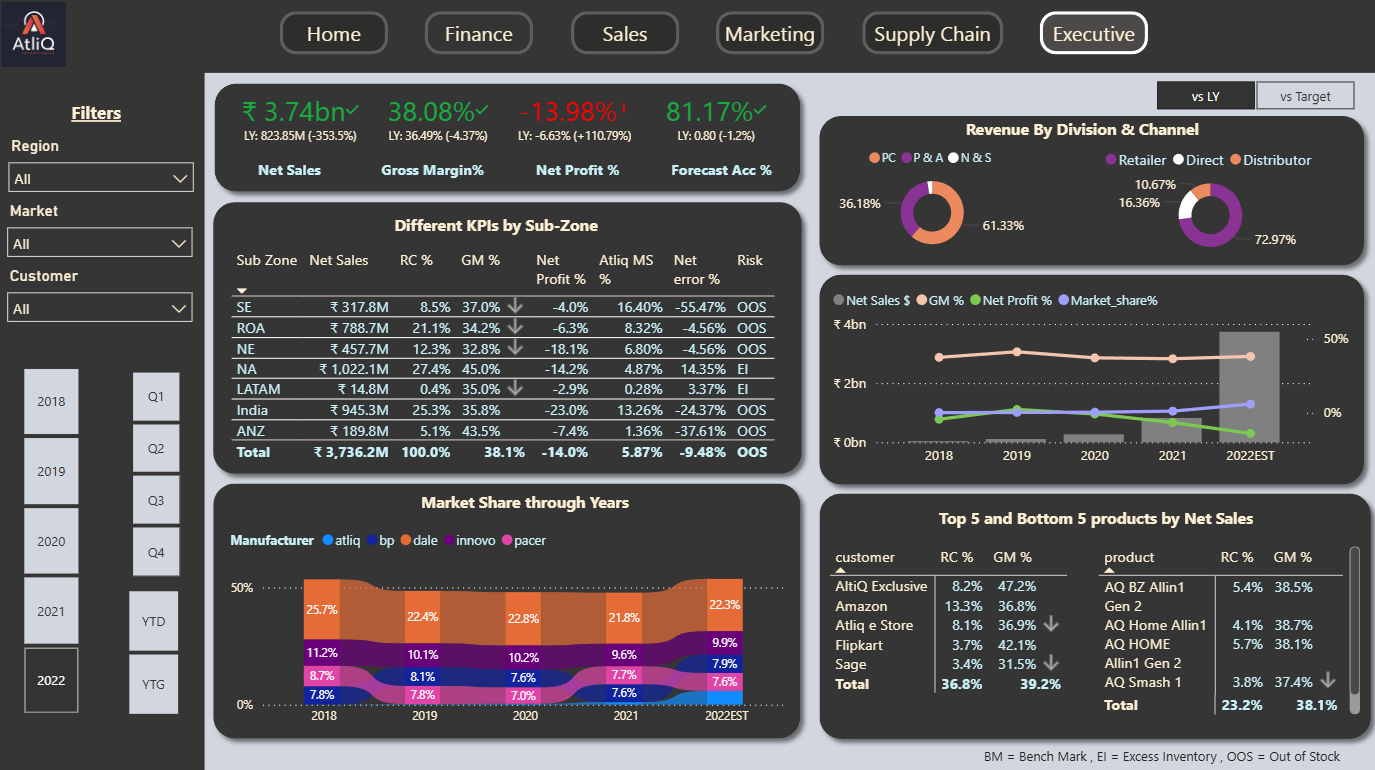

The dashboard page shown, as its layout file describes it:
{"tool":"powerbi","page":{"name":"Executive View","canvas":[1280,720],"ordinal":5},"visuals":[{"type":"shape","box":[0,0,1280,72.4],"z":0},{"type":"shape","box":[0,0,193,720.2],"z":1000},{"type":"textbox","box":[908.6,688.9,371.1,31],"z":2000},{"type":"slicer","fields":{"Values":["gdb041 dim_market.market"]},"box":[0,185.8,191.8,60.3],"z":3000},{"type":"slicer","fields":{"Values":["gdb041 dim_customer.customer"]},"box":[0,246.1,191.8,59.1],"z":4000},{"type":"slicer","fields":{"Values":["gdb041 dim_market.region"]},"box":[1.2,125.5,191.8,60.3],"z":5000},{"type":"image","box":[0,0,70,72.4],"z":6000},{"type":"slicer","fields":{"Values":["fiscal_year.Fiscal Year"]},"box":[0,339,100.1,331.8],"z":7000},{"type":"slicer","fields":{"Values":["dim_date.Quaters"]},"box":[100.1,341.4,92.9,201.5],"z":8000},{"type":"slicer","fields":{"Values":["dim_date.ytd_ytg"]},"box":[96.5,544.1,95.3,126.7],"z":9000},{"type":"textbox","box":[65.1,92.9,65.1,32.6],"z":10000},{"type":"slicer","fields":{"Values":["NS BM.Benchmark "]},"box":[1047.2,72.4,232.8,37.4],"z":11000},{"type":"shape","box":[191.5,182.6,561.9,268.9],"z":12000},{"type":"shape","box":[752.1,102.7,521.3,156],"z":13000},{"type":"shape","box":[192.8,72.3,559.3,118],"z":14000},{"type":"actionButton","box":[261.8,14.7,100.1,39.8],"z":15000},{"type":"actionButton","box":[396.4,14.7,100.1,39.8],"z":16000},{"type":"actionButton","box":[531.1,14.7,100.1,39.8],"z":17000},{"type":"actionButton","box":[665.7,14.7,100.1,39.8],"z":18000},{"type":"actionButton","box":[800.4,14.7,130.3,39.8],"z":19000},{"type":"actionButton","box":[965.2,14.7,100.1,39.8],"z":20000},{"type":"shape","box":[191.5,442.7,560.6,253.7],"z":21000},{"type":"shape","box":[752.1,250.1,521.3,211.8],"z":22000},{"type":"tableEx","fields":{"Values":["sub_zone.sub_zone","Key Measures.Net Sales $","Key Measures.RC %","Key Measures.GM %","Key Measures.Net Profit %","Key Measures.Atliq MS %","Key Measures.Net error %","Key Measures.Risk"]},"box":[211.8,229.6,525.1,211.8],"z":23000},{"type":"donutChart","fields":{"Category":["gdb041 dim_product.division"],"Y":["Key Measures.Net Sales $"]},"box":[772.4,131.9,185.2,111.6],"z":24000},{"type":"donutChart","fields":{"Category":["gdb041 dim_customer.channel"],"Y":["Key Measures.Net Sales $"]},"box":[1003.3,131.9,239.7,114.2],"z":25000},{"type":"lineStackedColumnComboChart","fields":{"Category":["fiscal_year.fy des"],"Y2":["Key Measures.GM %","Key Measures.Net Profit %","Key Measures.Market_share%"],"Y":["Key Measures.Net Sales $"]},"box":[768.6,262.8,487,181.4],"z":26000},{"type":"ribbonChart","fields":{"Category":["fiscal_year.fy des"],"Series":["marketshare.Manufacturer"],"Y":["Key Measures.Market_share%"]},"box":[211.8,484.5,525.1,200],"z":27000},{"type":"shape","box":[752.1,451.5,527.6,244.8],"z":28000},{"type":"pivotTable","fields":{"Rows":["gdb041 dim_customer.customer"],"Values":["Key Measures.RC %","Key Measures.GM %"]},"box":[766.1,504.8,237.2,164.9],"z":29000},{"type":"pivotTable","fields":{"Rows":["gdb041 dim_product.product"],"Values":["Key Measures.RC %","Key Measures.GM %"]},"box":[1014.7,504.8,251.1,164.9],"z":30000},{"type":"textbox","box":[492.1,147.1,91.3,30.4],"z":31000},{"type":"textbox","box":[223.2,147.1,96.4,30.4],"z":32000},{"type":"textbox","box":[338.6,147.1,130.6,30.4],"z":33000},{"type":"kpi","fields":{"Indicator":["Key Measures.Net Sales $"],"Goal":["Key Measures.NS BM $"],"TrendLine":["dim_date.Fiscal Year"]},"box":[211.8,81.2,139.5,64.7],"z":34000},{"type":"kpi","fields":{"TrendLine":["dim_date.Fiscal Year"],"Indicator":["Key Measures.GM %"],"Goal":["Key Measures.GM % BM"]},"box":[355.1,81.2,107.8,64.7],"z":35000},{"type":"kpi","fields":{"Goal":["Key Measures.NP % BM"],"TrendLine":["dim_date.Fiscal Year"],"Indicator":["Key Measures.Net Profit %"]},"box":[476.9,81.2,115.4,64.7],"z":36000},{"type":"kpi","fields":{"TrendLine":["dim_date.Fiscal Year"],"Goal":["Key Measures.Forecast Acc % LY"],"Indicator":["Key Measures.forecast accuracy %"]},"box":[592.3,81.2,145.9,64.7],"z":37000},{"type":"textbox","box":[616.4,147.1,107.8,30.4],"z":38000},{"type":"textbox","box":[312,197.9,300.6,31.7],"z":39000},{"type":"textbox","box":[866.3,468,300.6,31.7],"z":40000},{"type":"textbox","box":[338.6,452.8,300.6,31.7],"z":41000},{"type":"textbox","box":[853.6,109.1,300.6,31.7],"z":42000}]}

Visuals, with their boxes in screenshot pixels (x1, y1, x2, y2), scaled from the page's 1280x720 canvas onto the 1375x770 screenshot:
shape: left=0, top=0, right=1374, bottom=77
shape: left=0, top=0, right=207, bottom=769
textbox: left=976, top=737, right=1374, bottom=769
slicer - gdb041 dim_market.market: left=0, top=199, right=206, bottom=263
slicer - gdb041 dim_customer.customer: left=0, top=263, right=206, bottom=326
slicer - gdb041 dim_market.region: left=1, top=134, right=207, bottom=199
image: left=0, top=0, right=75, bottom=77
slicer - fiscal_year.Fiscal Year: left=0, top=363, right=108, bottom=717
slicer - dim_date.Quaters: left=108, top=365, right=207, bottom=581
slicer - dim_date.ytd_ytg: left=104, top=582, right=206, bottom=717
textbox: left=70, top=99, right=140, bottom=134
slicer - NS BM.Benchmark : left=1125, top=77, right=1374, bottom=117
shape: left=206, top=195, right=809, bottom=483
shape: left=808, top=110, right=1368, bottom=277
shape: left=207, top=77, right=808, bottom=204
actionButton: left=281, top=16, right=389, bottom=58
actionButton: left=426, top=16, right=533, bottom=58
actionButton: left=571, top=16, right=678, bottom=58
actionButton: left=715, top=16, right=823, bottom=58
actionButton: left=860, top=16, right=1000, bottom=58
actionButton: left=1037, top=16, right=1144, bottom=58
shape: left=206, top=473, right=808, bottom=745
shape: left=808, top=267, right=1368, bottom=494
tableEx - sub_zone.sub_zone x Key Measures.Net Sales $: left=228, top=246, right=792, bottom=472
donutChart - gdb041 dim_product.division x Key Measures.Net Sales $: left=830, top=141, right=1029, bottom=260
donutChart - gdb041 dim_customer.channel x Key Measures.Net Sales $: left=1078, top=141, right=1335, bottom=263
lineStackedColumnComboChart - fiscal_year.fy des x Key Measures.GM %: left=826, top=281, right=1349, bottom=475
ribbonChart - fiscal_year.fy des x marketshare.Manufacturer: left=228, top=518, right=792, bottom=732
shape: left=808, top=483, right=1374, bottom=745
pivotTable - gdb041 dim_customer.customer x Key Measures.RC %: left=823, top=540, right=1078, bottom=716
pivotTable - gdb041 dim_product.product x Key Measures.RC %: left=1090, top=540, right=1360, bottom=716
textbox: left=529, top=157, right=627, bottom=190
textbox: left=240, top=157, right=343, bottom=190
textbox: left=364, top=157, right=504, bottom=190
kpi - Key Measures.Net Sales $ x Key Measures.NS BM $: left=228, top=87, right=377, bottom=156
kpi - dim_date.Fiscal Year x Key Measures.GM %: left=381, top=87, right=497, bottom=156
kpi - Key Measures.NP % BM x dim_date.Fiscal Year: left=512, top=87, right=636, bottom=156
kpi - dim_date.Fiscal Year x Key Measures.Forecast Acc % LY: left=636, top=87, right=793, bottom=156
textbox: left=662, top=157, right=778, bottom=190
textbox: left=335, top=212, right=658, bottom=246
textbox: left=931, top=500, right=1254, bottom=534
textbox: left=364, top=484, right=687, bottom=518
textbox: left=917, top=117, right=1240, bottom=151
